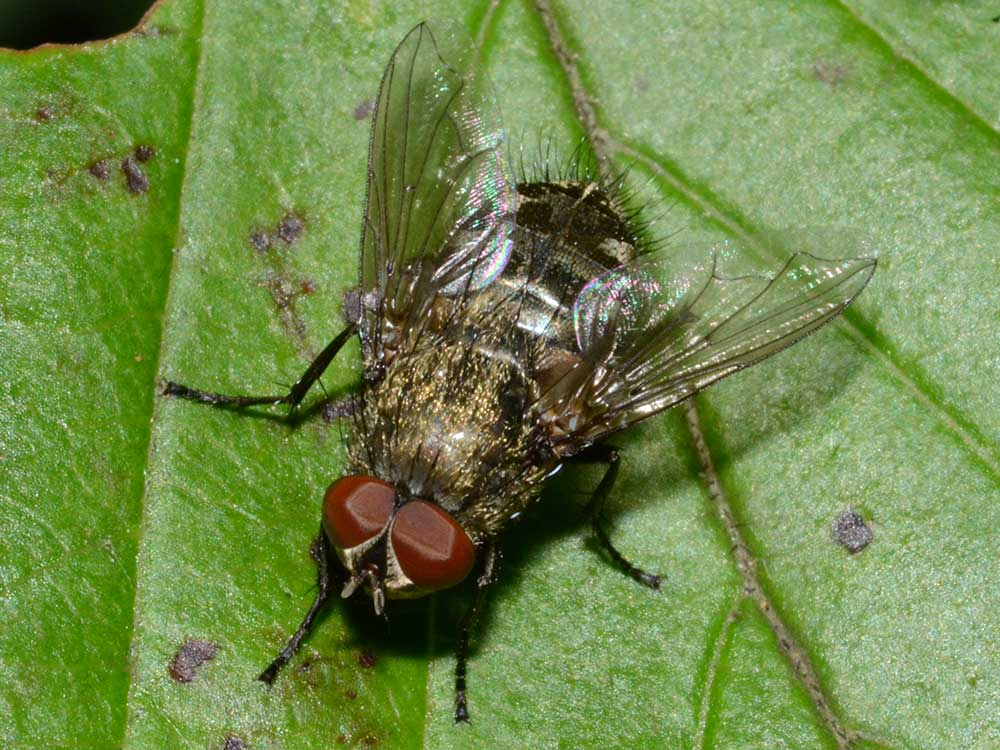phorid fly: (127, 17, 892, 744)
